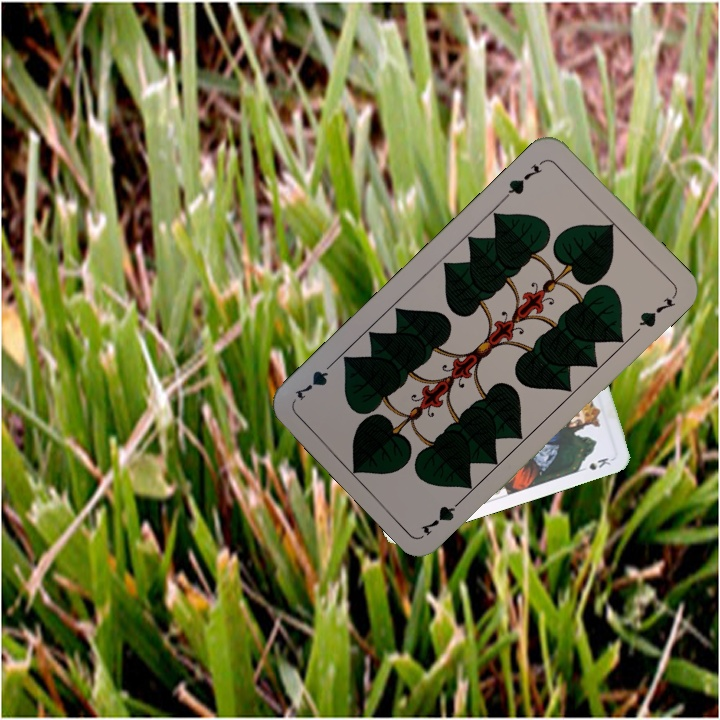G7: (417, 492, 468, 538), (500, 156, 548, 201)
